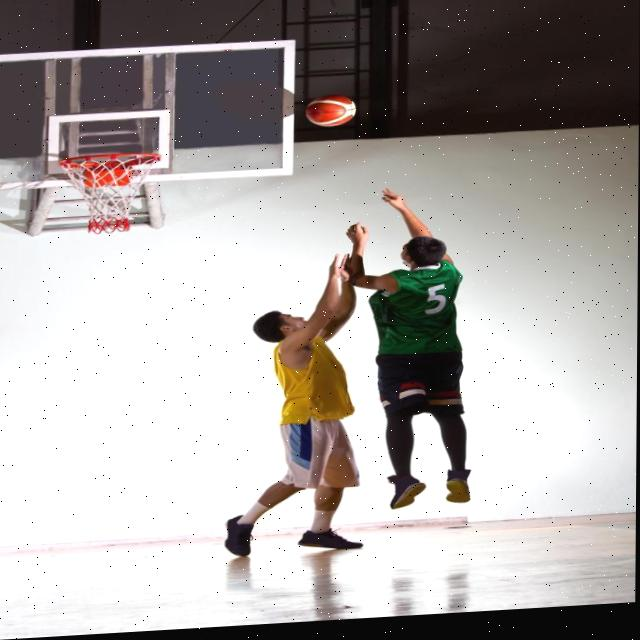basketball: (304, 91, 357, 129)
hoop: (56, 149, 165, 238)
